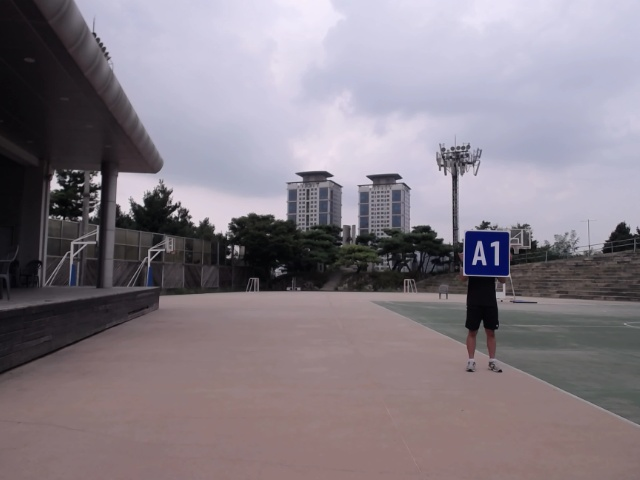delivery_a1: (464, 230, 510, 277)
